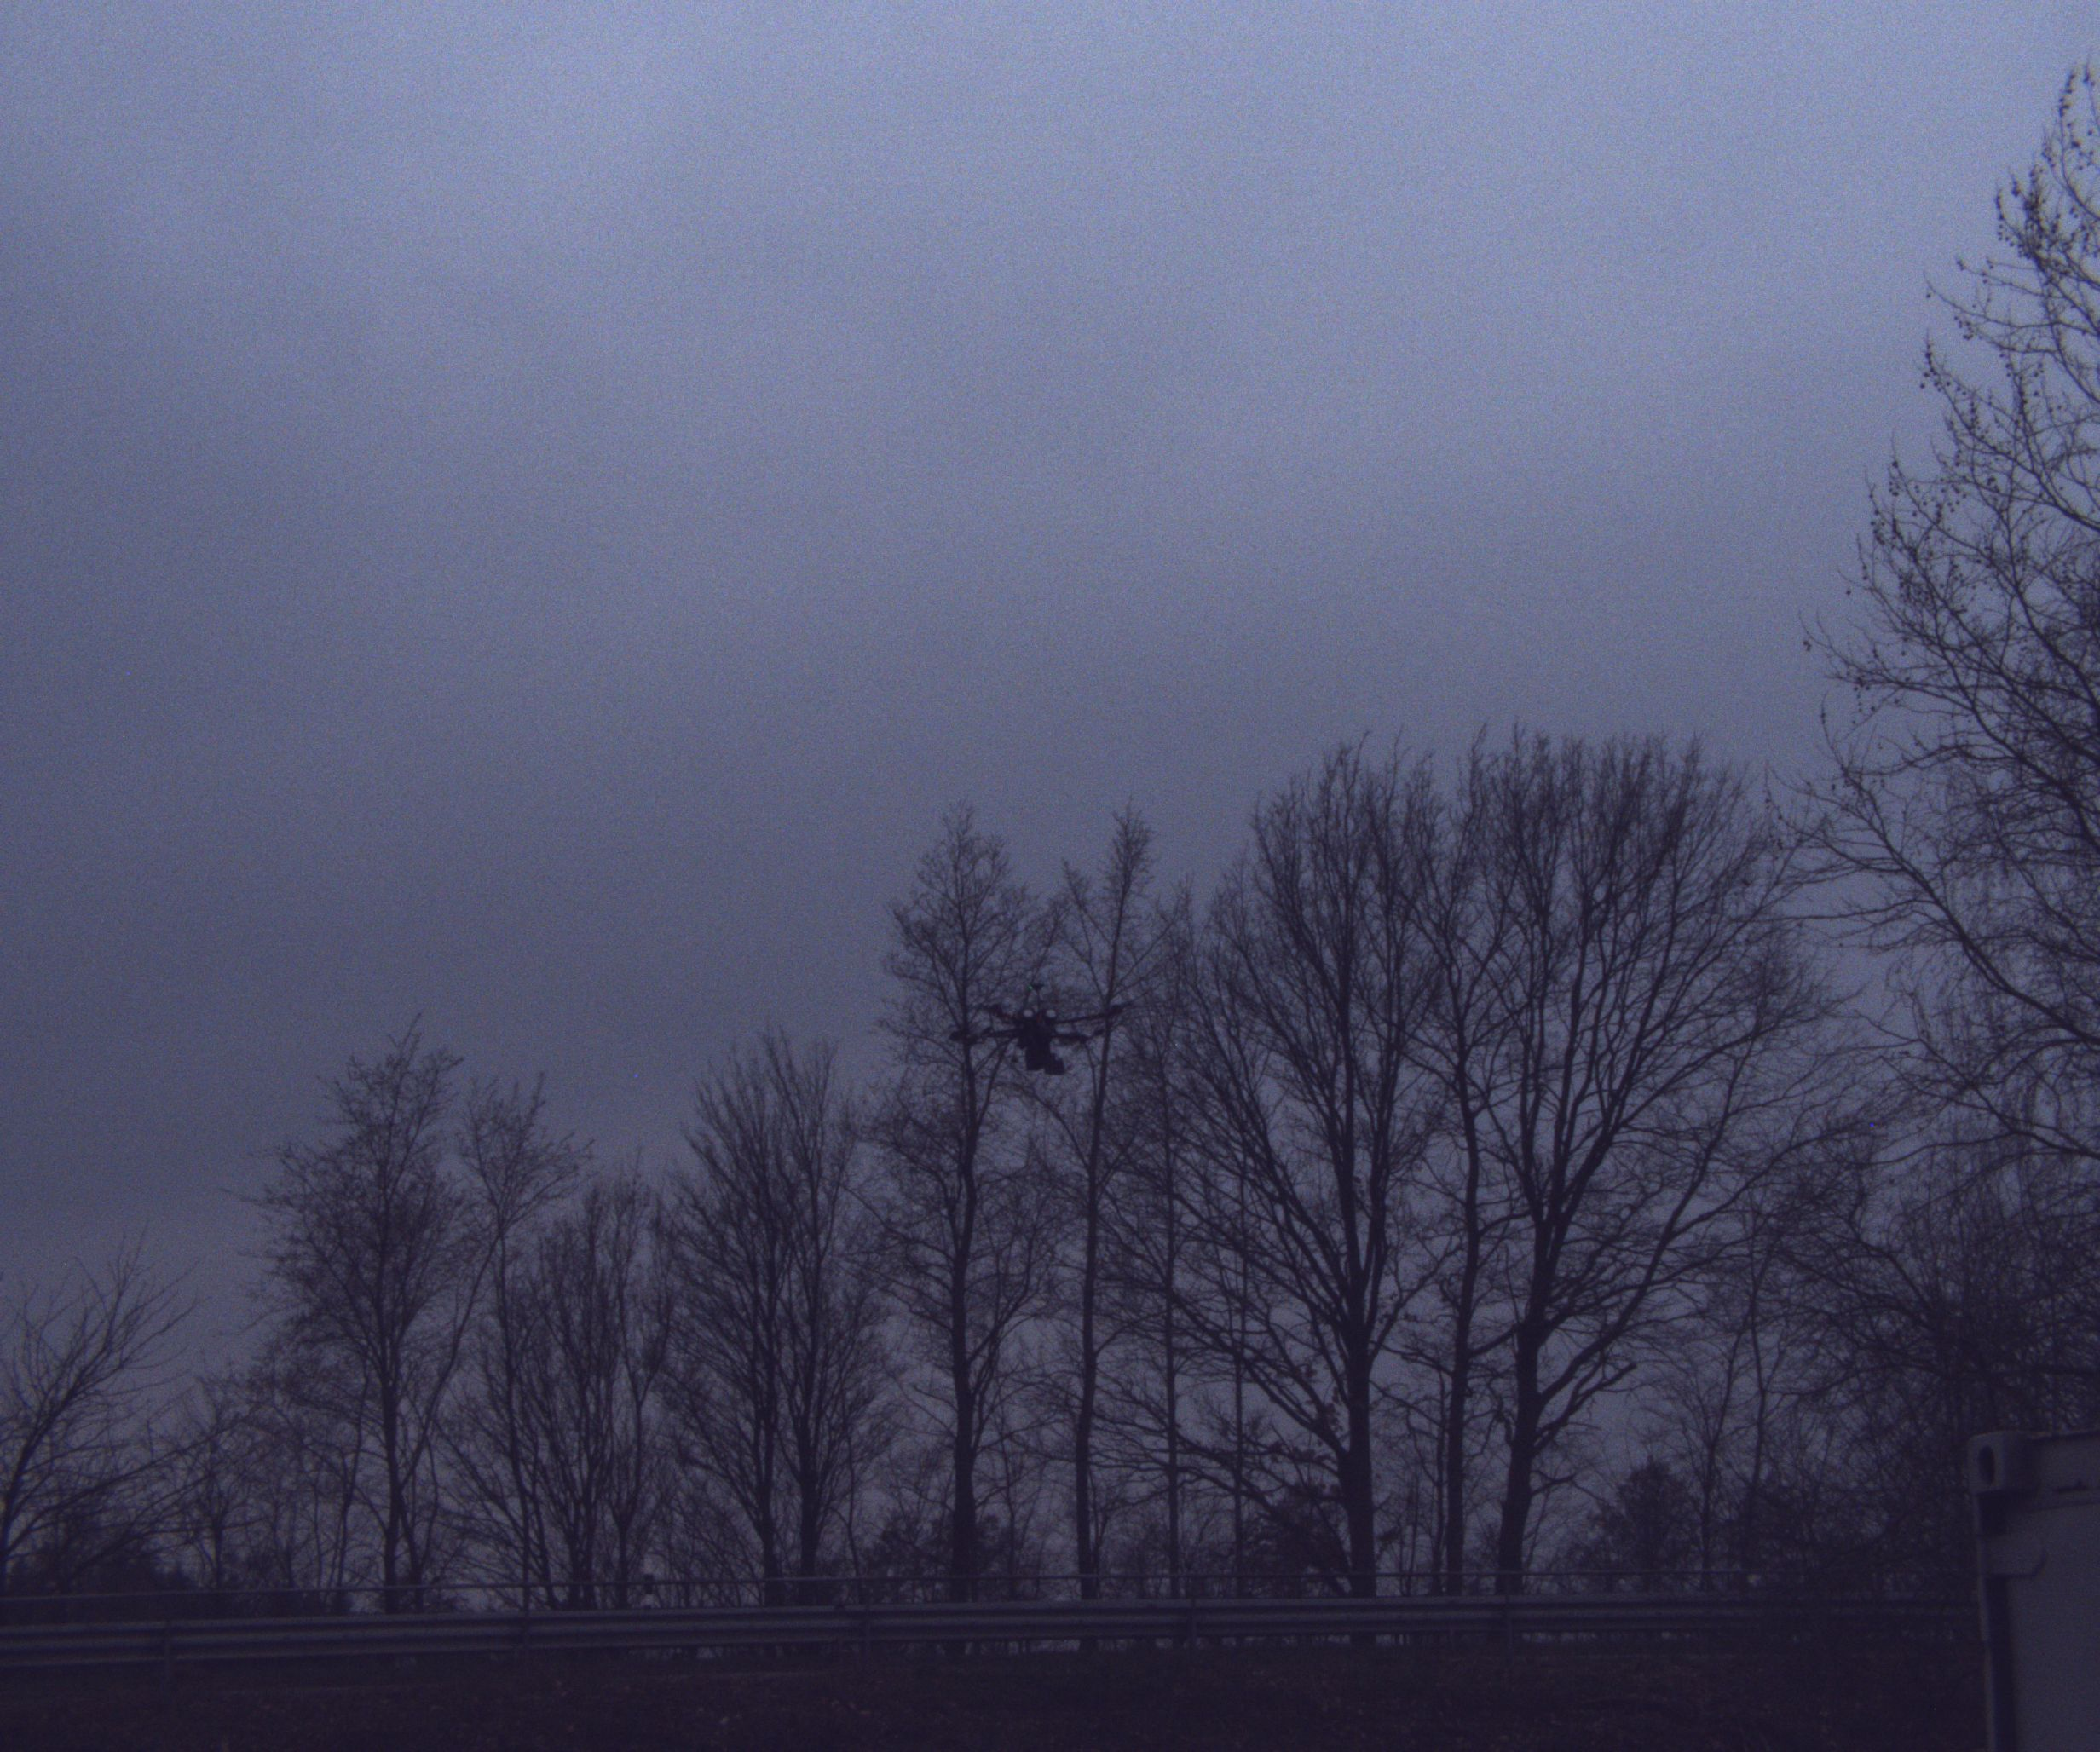Drohne: (924, 936, 1245, 1119)
